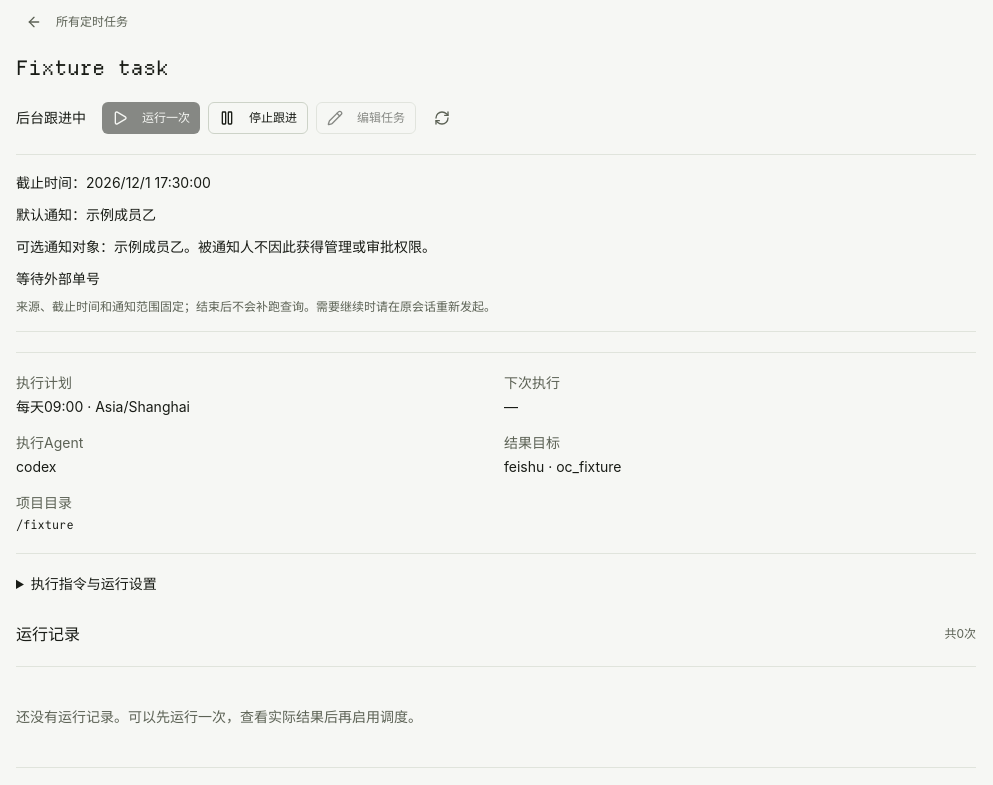
Test: shows a bounded followup and stops it without editing, replaying or extending it
Expected: the button "运行一次" is disabled, x1=102 y1=102 x2=200 y2=134
Expected: the button "编辑任务" is disabled, x1=316 y1=102 x2=416 y2=134
Step 1. Click the button "停止跟进" → (258, 118), box x1=208 y1=102 x2=308 y2=134
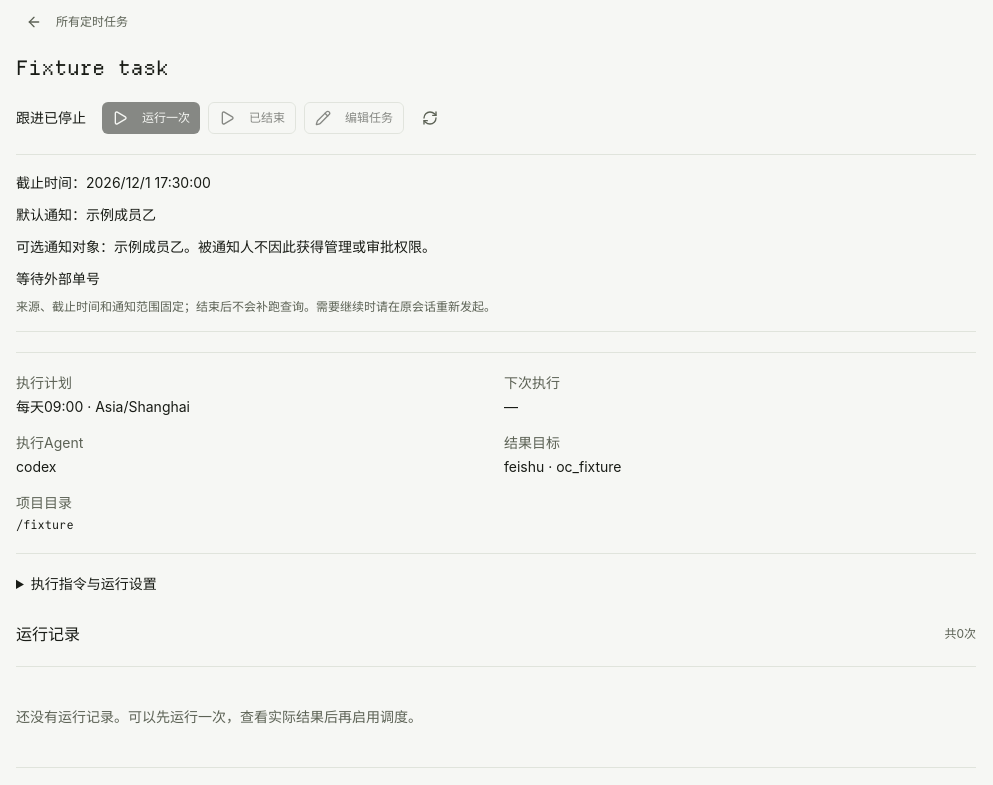
Now the text "跟进已停止" is shown, box x1=16 y1=108 x2=86 y2=128
Now the button "已结束" is disabled, box x1=208 y1=102 x2=296 y2=134
